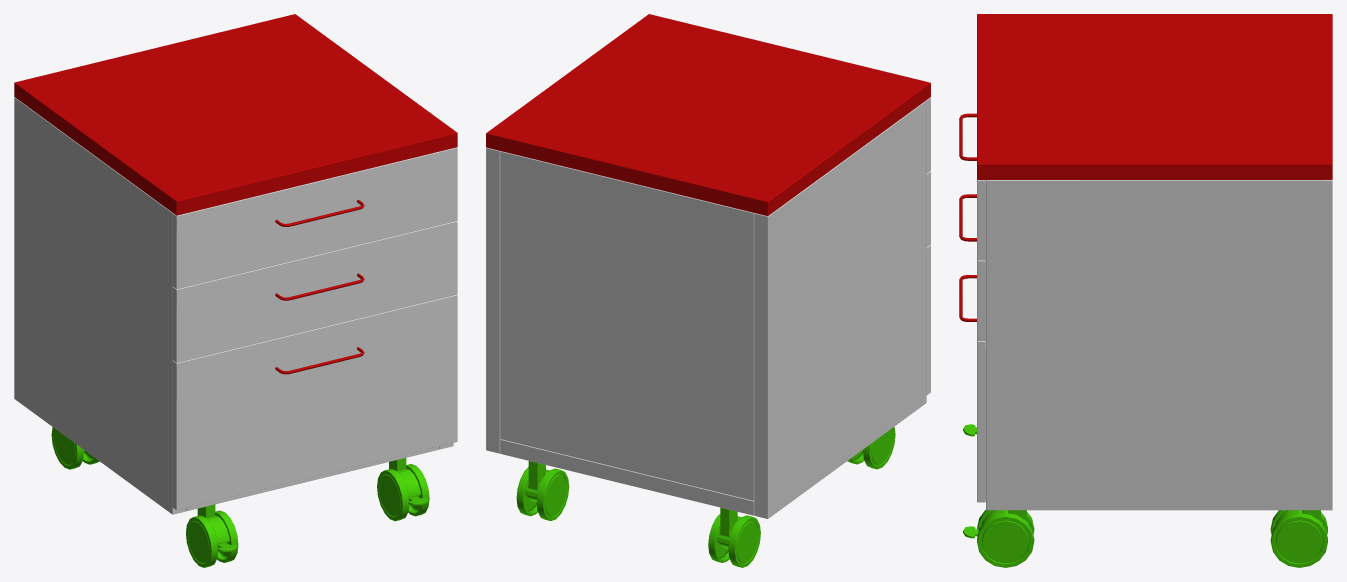
The model's file is UnderBench01b.fbx.
3 renders of one model, left to right at view 1: azimuth 30°, elevation 25°; view 2: azimuth 150°, elevation 25°; view 3: azimuth 270°, elevation 25°, orthographic. The views are drawn at different scales.
Visible parts, largest first — view 1: UnderBench01b, Drawer03, Drawer01, Drawer02; view 2: UnderBench01b, Drawer03; view 3: UnderBench01b, Drawer03, Drawer01, Drawer02.
Part boxes in pixels (<box>): UnderBench01b: <box>14,14,457,567</box>; Drawer03: <box>172,294,457,510</box>; Drawer01: <box>172,147,457,289</box>; Drawer02: <box>172,221,457,362</box>; UnderBench01b: <box>486,14,930,567</box>; Drawer03: <box>926,245,930,394</box>; UnderBench01b: <box>963,14,1332,567</box>; Drawer03: <box>959,275,985,502</box>; Drawer01: <box>959,113,985,260</box>; Drawer02: <box>959,194,985,340</box>.
Size of the model in its own units: 50 by 52.5 by 65.
